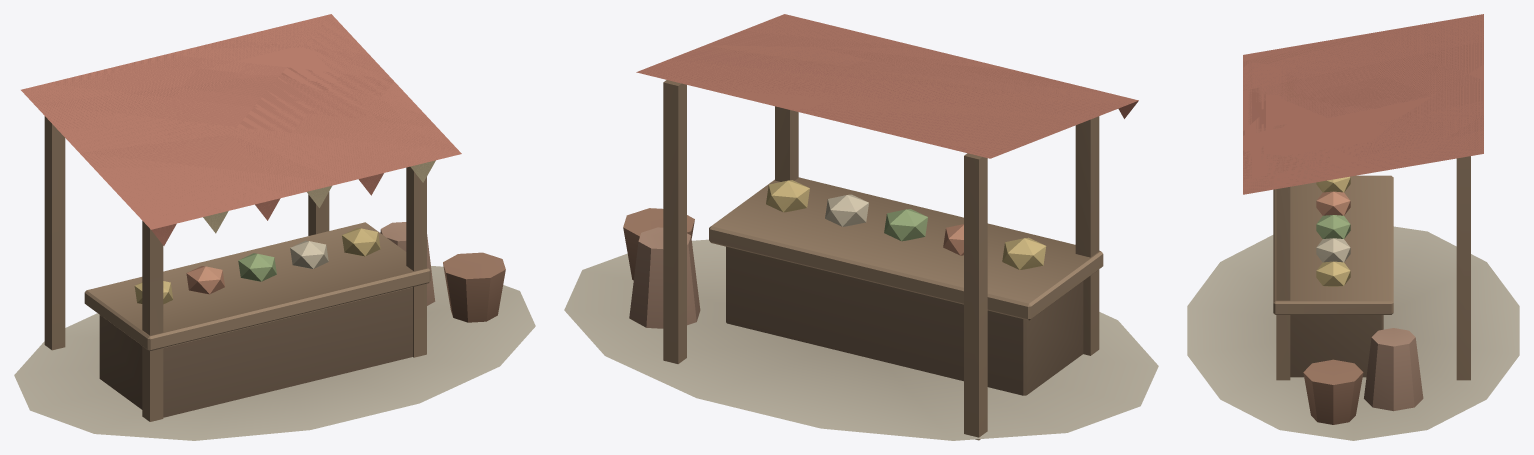
The model's file is stall_0.glb.
The picture shows the model from 3 angles, left to right: view 1: azimuth 30°, elevation 25°; view 2: azimuth 150°, elevation 25°; view 3: azimuth 270°, elevation 25°; orthographic projection. The views are drawn at different scales.
Visible parts, largest first — view 1: stall_0; view 2: stall_0; view 3: stall_0.
Boxes of the visible parts, x1=… form: stall_0: x1=14, y1=14, x2=535, y2=440; stall_0: x1=564, y1=14, x2=1158, y2=440; stall_0: x1=1187, y1=14, x2=1519, y2=440.
Bounding box in the file's own units: 5.2 × 2.6 × 3.31.
